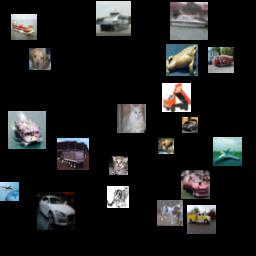airplane: (213, 137, 242, 166), (0, 182, 19, 201)
automobile: (37, 192, 75, 230), (181, 170, 210, 199), (182, 117, 198, 133)
cat: (117, 104, 146, 133), (107, 186, 129, 208), (109, 156, 128, 175)
deer: (158, 138, 174, 154)
dog: (157, 200, 183, 226), (29, 48, 51, 70)
frog: (166, 44, 198, 76)
ship: (8, 111, 46, 149), (170, 2, 208, 40), (96, 1, 131, 36), (11, 14, 37, 40)
truck: (57, 138, 89, 170), (162, 83, 191, 112), (187, 205, 216, 234), (208, 47, 234, 73)
